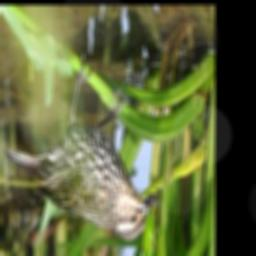Sparrow: (3, 57, 155, 241)
